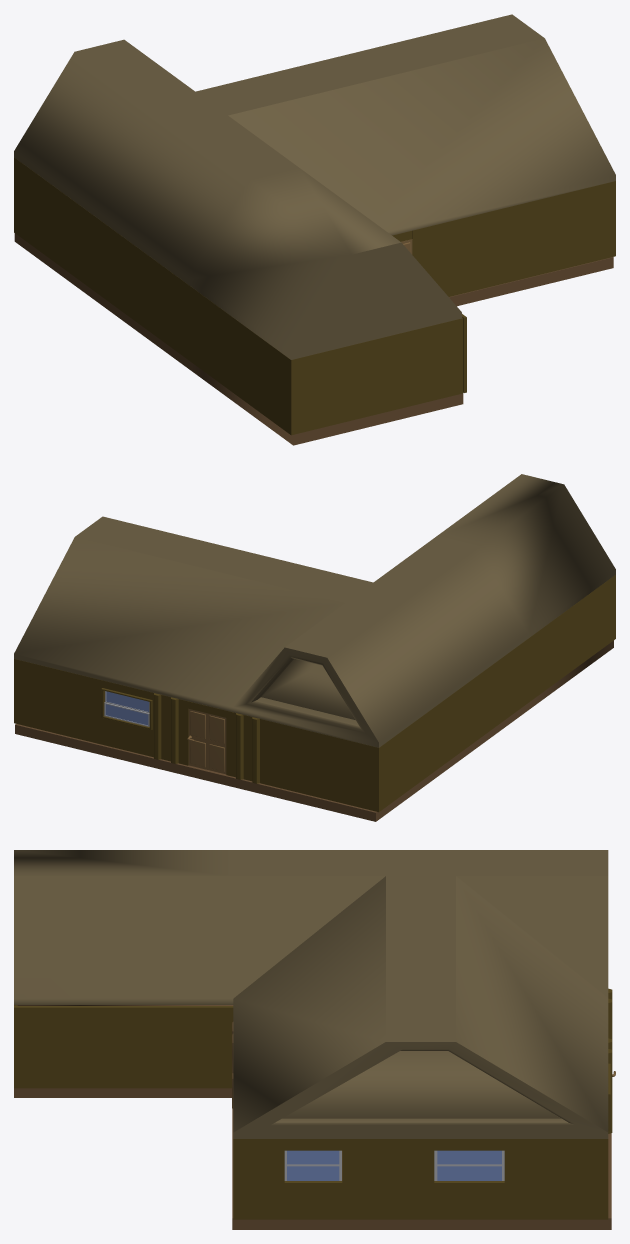
Rendered from house 5.fbx.
3 renders of one model, top to bottom at view 1: azimuth 30°, elevation 25°; view 2: azimuth 150°, elevation 25°; view 3: azimuth 270°, elevation 25°, orthographic. The views are drawn at different scales.
Parts seen in each view (by area): view 1: polySurface852; view 2: polySurface852; view 3: polySurface852.
Part boxes in pixels (bbox=[...]): polySurface852: bbox=[14, 14, 615, 445]; polySurface852: bbox=[14, 474, 615, 821]; polySurface852: bbox=[14, 850, 615, 1229].
Bounding box in the file's own units: 2148 × 849 × 2446.
